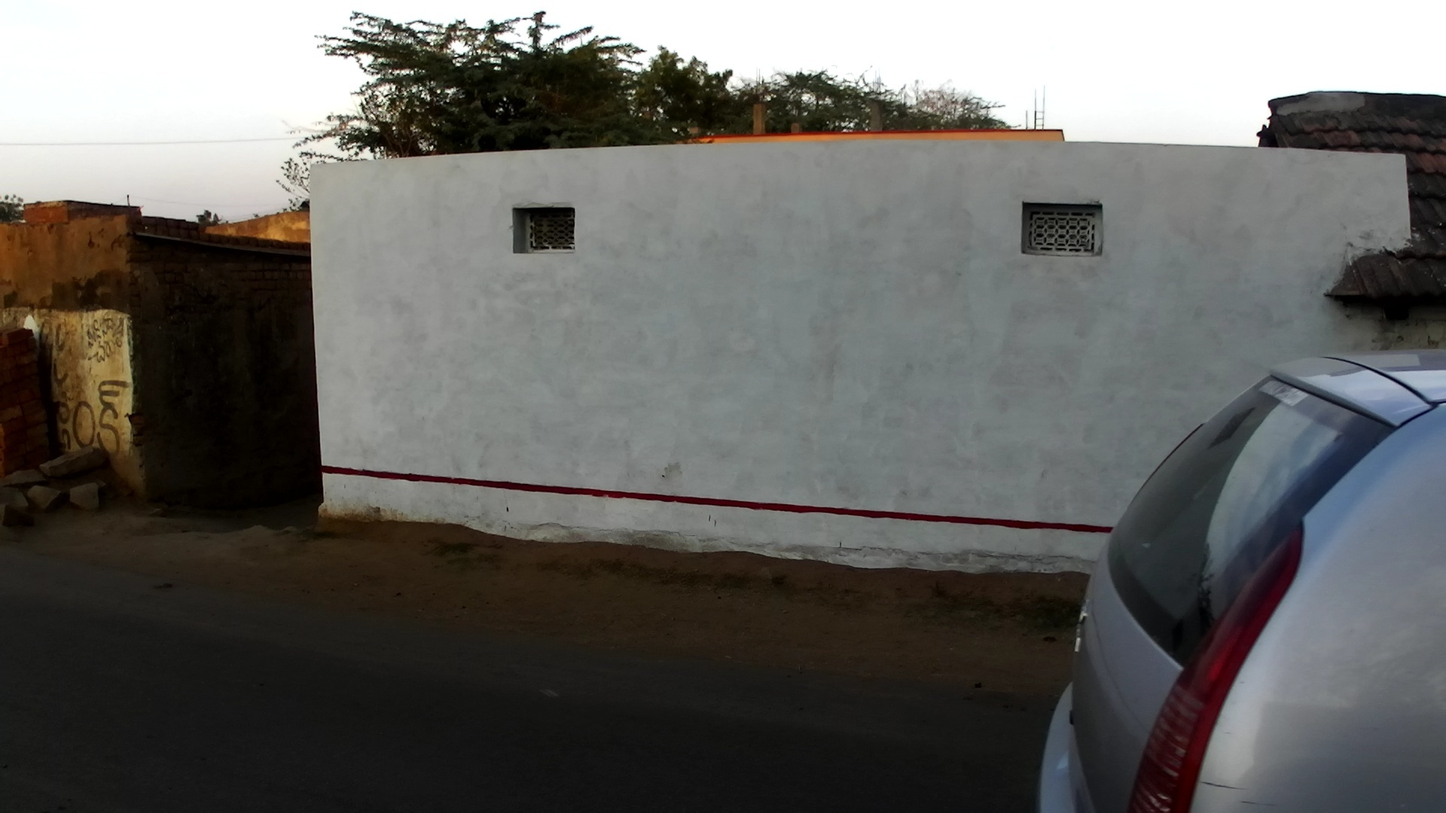car: (1039, 348, 1446, 813)
